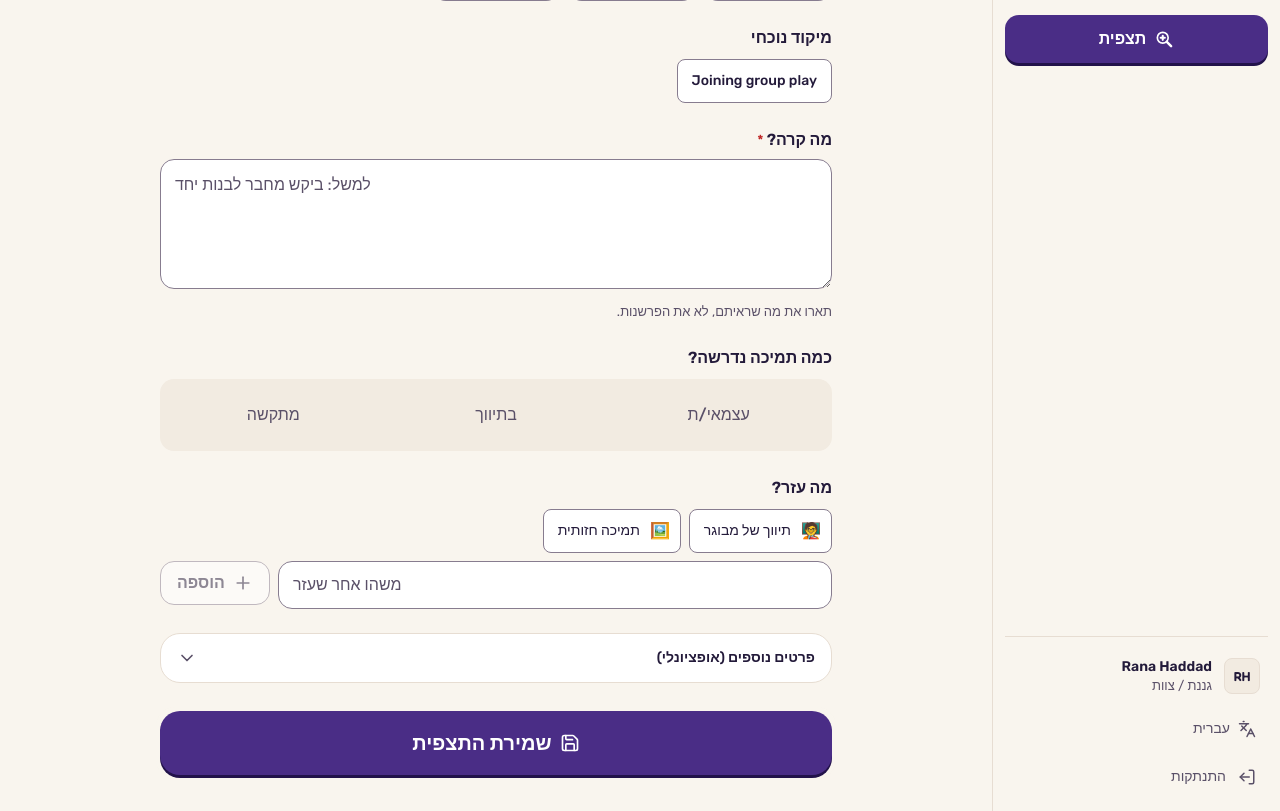
Test case: Observe → Understand → Act stepper (D14) › renders the stepper in Hebrew with RTL arrows and letters
(page scrolled)
Click the button "פרטים נוספים (אופציונלי)". click: (736, 657)
box: [161,634,831,682]
(page scrolled)
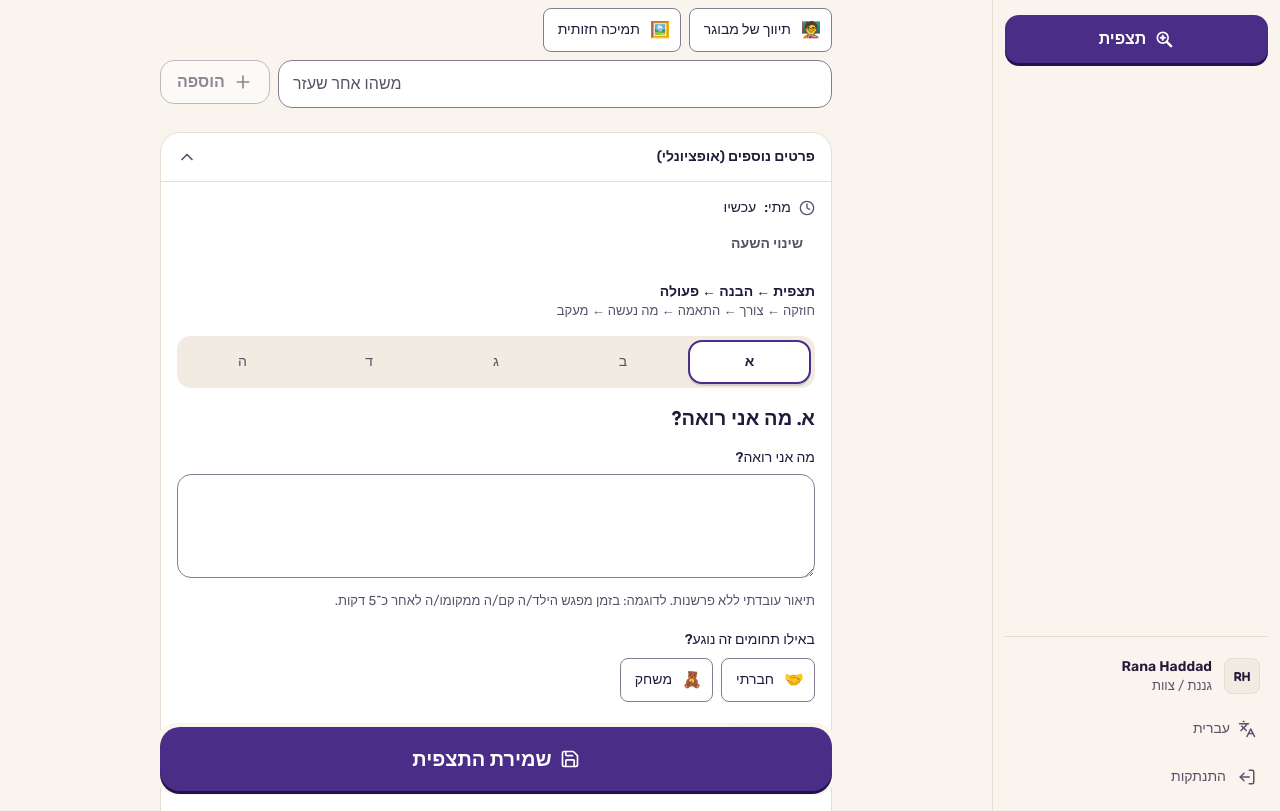
Result: the heading "תצפית ← הבנה ← פעולה" is shown at [660,283,815,300]
Result: the text box labelled "מה אני רואה?" is shown at [177,474,815,578]
Result: the button named "שלב ה" is shown at [181,340,304,384]
